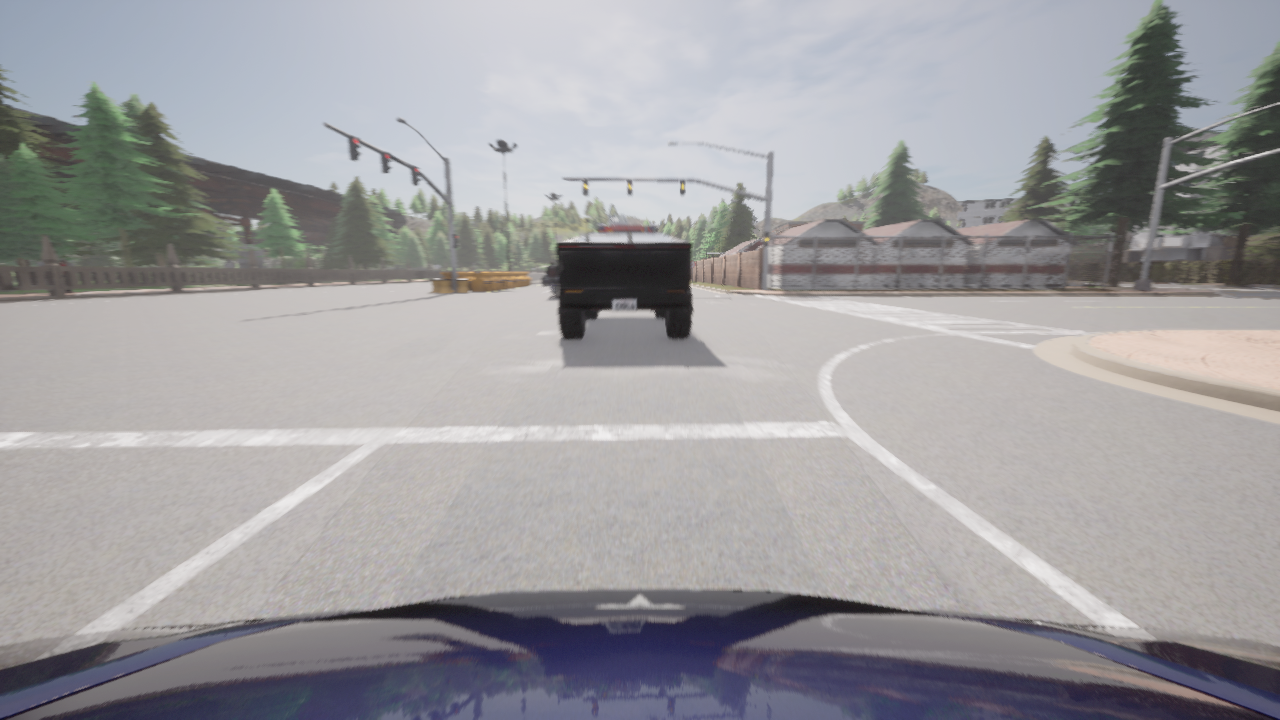cyclist: (0, 588, 1279, 719), (557, 232, 692, 338), (597, 214, 657, 231), (542, 274, 558, 285), (550, 281, 556, 298)
pedestrian: (57, 259, 73, 292)
